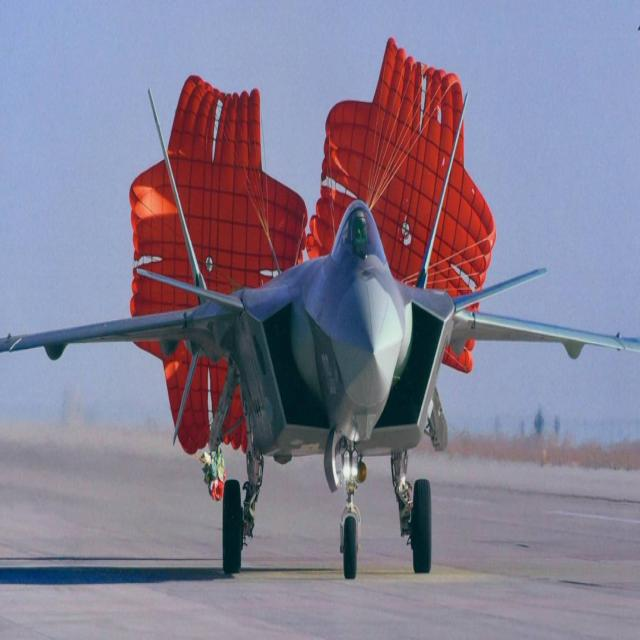MIL_Plane: (0, 88, 640, 579)
